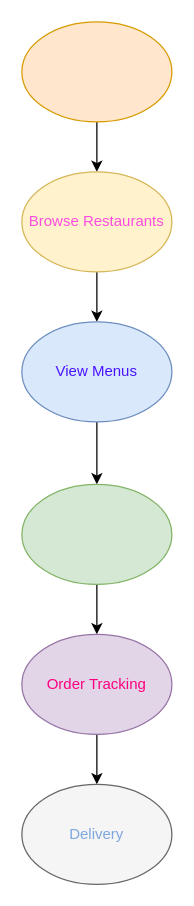
The diagram is 194 pixels wide and 906 high, and some of its shapes have lost their labels. The centre of each missing label's shape, as x and y in pixels:
"Download and sign Up" goes at pixel 96 71.
"Place Order" goes at pixel 96 533.
